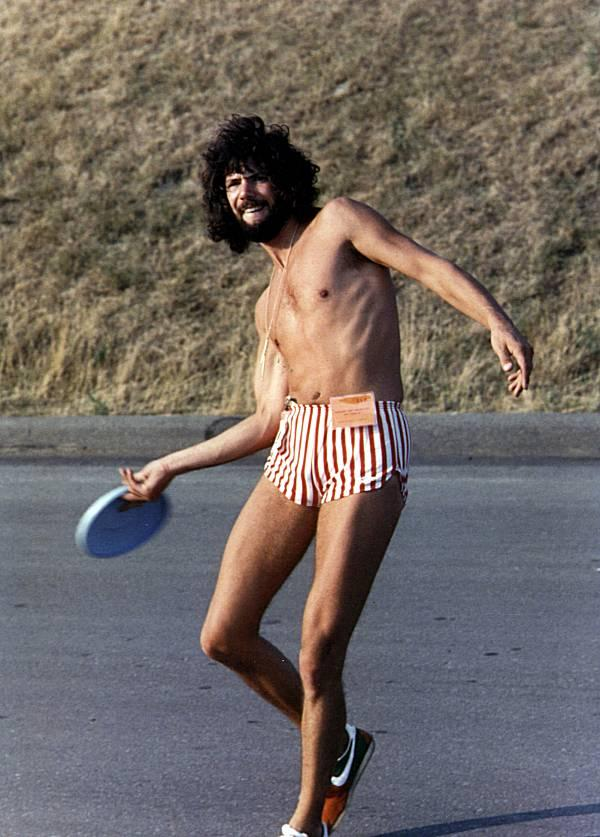person: (119, 112, 529, 837)
